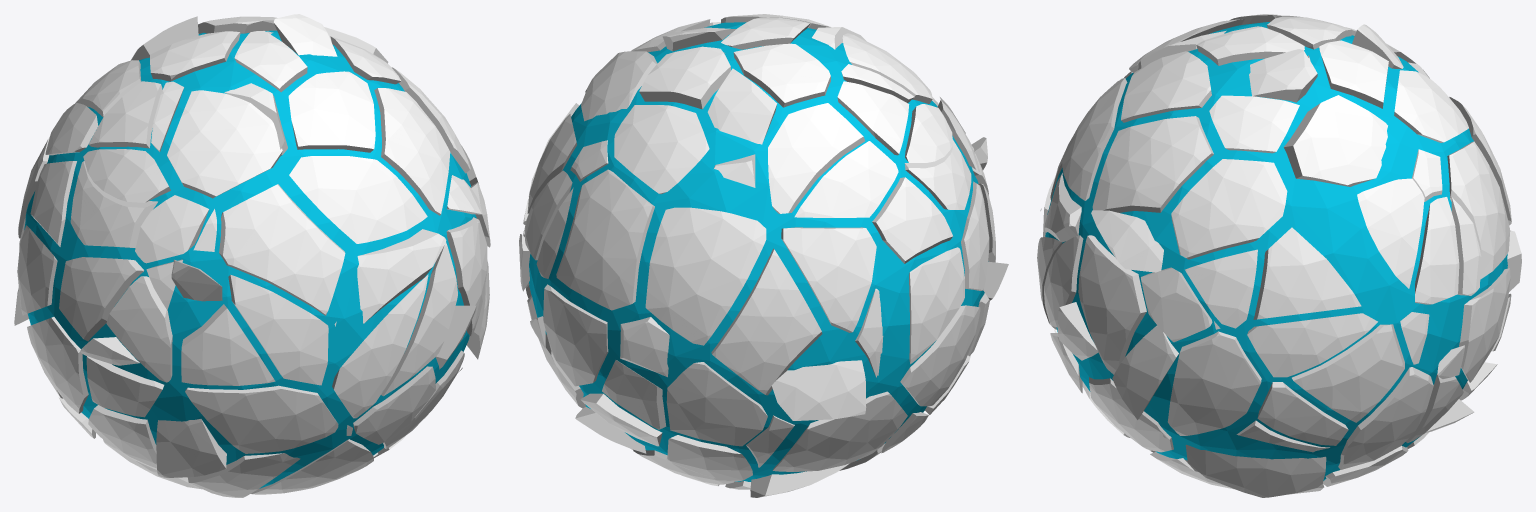
The model's file is Planet_Ice.fbx.
The picture shows the model from 3 angles, left to right: view 1: azimuth 30°, elevation 25°; view 2: azimuth 150°, elevation 25°; view 3: azimuth 270°, elevation 25°; orthographic projection.
Visible parts, largest first — view 1: Icosphere, Icosphere_cell, Icosphere_cell.109, Icosphere_cell.123, Icosphere_cell.021, Icosphere_cell.012, Icosphere_cell.006, Icosphere_cell.026, Icosphere_cell.103, Icosphere_cell.061, Icosphere_cell.041, Icosphere_cell.059 (+37 smaller); view 2: Icosphere, Icosphere_cell.142, Icosphere_cell.044, Icosphere_cell.004, Icosphere_cell.073, Icosphere_cell.079, Icosphere_cell.114, Icosphere_cell.082, Icosphere_cell.078, Icosphere_cell.135, Icosphere_cell.087, Icosphere_cell.037 (+37 smaller); view 3: Icosphere, Icosphere_cell.126, Icosphere_cell.026, Icosphere_cell.049, Icosphere_cell.125, Icosphere_cell.043, Icosphere_cell.071, Icosphere_cell.083, Icosphere_cell.062, Icosphere_cell.044, Icosphere_cell.080, Icosphere_cell.137 (+36 smaller).
Part boxes in pixels (x1,y1,x2,y2): Icosphere: (24, 30, 476, 488); Icosphere_cell: (219, 184, 345, 315); Icosphere_cell.109: (167, 90, 282, 198); Icosphere_cell.123: (289, 156, 427, 243); Icosphere_cell.021: (185, 385, 338, 453); Icosphere_cell.012: (228, 275, 328, 385); Icosphere_cell.006: (288, 71, 375, 152); Icosphere_cell.026: (374, 88, 450, 215); Icosphere_cell.103: (332, 274, 428, 418); Icosphere_cell.061: (181, 304, 275, 385); Icosphere_cell.041: (59, 257, 143, 341); Icosphere_cell.059: (357, 229, 446, 323); Icosphere: (529, 22, 988, 481); Icosphere_cell.142: (645, 207, 766, 345); Icosphere_cell.044: (556, 169, 654, 310); Icosphere_cell.004: (711, 248, 822, 395); Icosphere_cell.073: (781, 227, 876, 332); Icosphere_cell.079: (768, 103, 864, 213); Icosphere_cell.114: (614, 105, 709, 194); Icosphere_cell.082: (666, 362, 767, 446); Icosphere_cell.078: (772, 391, 907, 471); Icosphere_cell.135: (794, 141, 898, 217); Icosphere_cell.087: (771, 360, 866, 420); Icosphere_cell.037: (909, 247, 964, 364); Icosphere: (1045, 22, 1507, 480); Icosphere_cell.126: (1171, 159, 1287, 259); Icosphere_cell.026: (1092, 116, 1213, 212); Icosphere_cell.049: (1167, 331, 1261, 435); Icosphere_cell.125: (1283, 95, 1387, 186); Icosphere_cell.043: (1253, 227, 1361, 319); Icosphere_cell.071: (1292, 324, 1404, 422); Icosphere_cell.083: (1078, 235, 1146, 374); Icosphere_cell.062: (1247, 313, 1377, 377); Icosphere_cell.044: (1447, 141, 1510, 279); Icosphere_cell.080: (1357, 178, 1424, 288); Icosphere_cell.137: (1185, 444, 1326, 497).
Size of the model in its own units: 19.84 by 20.08 by 20.08.
